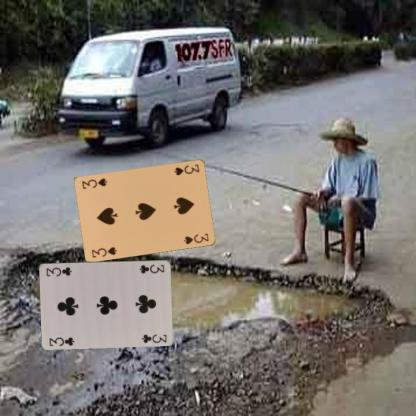3c: (46, 335, 76, 347), (137, 262, 165, 274)
3s: (89, 244, 118, 259), (172, 161, 200, 176)
